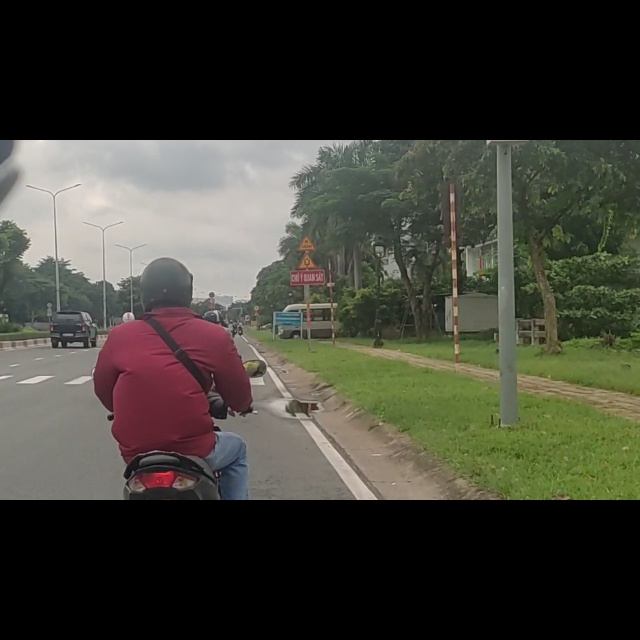bien_nguy_hiem: (297, 200, 319, 230), (297, 169, 316, 197), (209, 270, 216, 281)
